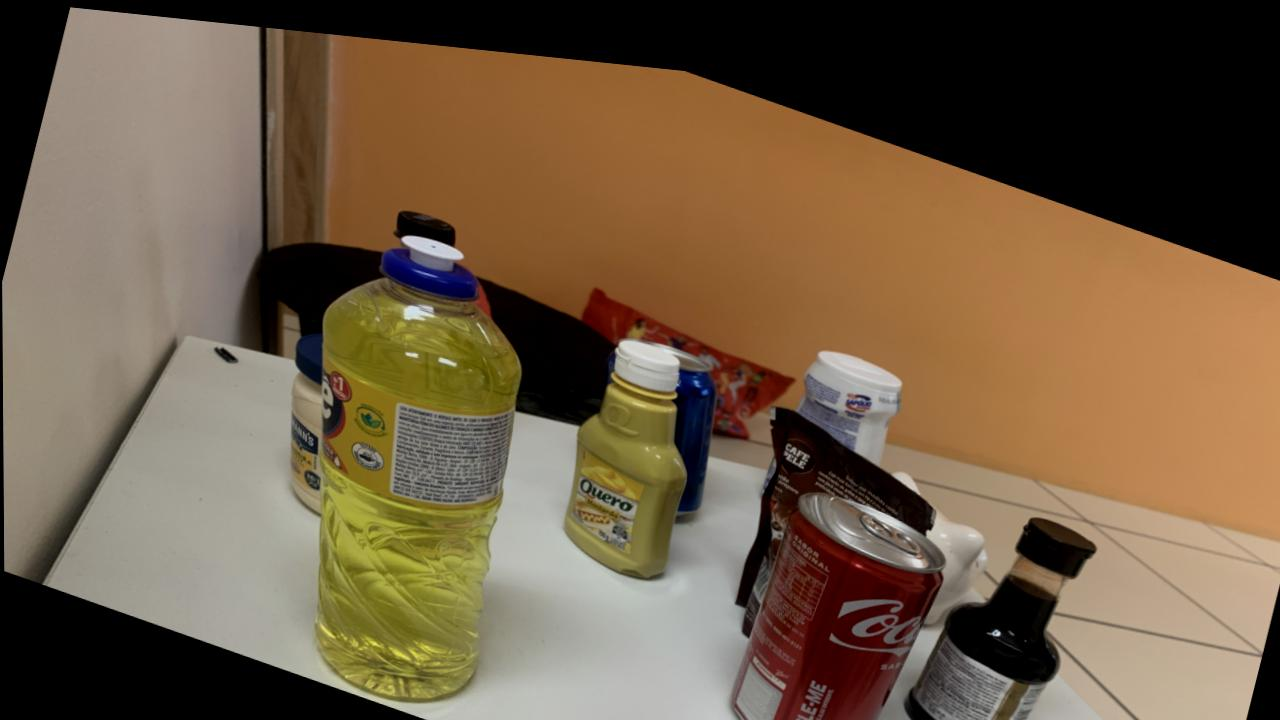Cleaner-Cleanup_Items: (797, 333, 901, 446)
Coffee-Pantry_Items: (735, 390, 935, 618)
Coke-Drinks: (728, 475, 945, 720)
Detergent-Cleanup_Items: (315, 226, 521, 691)
English_Sauce-Pantry_Items: (903, 496, 1095, 720)
Mayonnaise-Pantry_Items: (289, 326, 323, 506)
Mustard-Pantry_Items: (563, 326, 686, 564)
Pig_Safe-Miscellaneous: (923, 490, 988, 604), (892, 452, 919, 474)
Soda-Drinks: (394, 201, 456, 237)
Tonic-Drinks: (730, 496, 940, 720), (647, 328, 717, 498)
